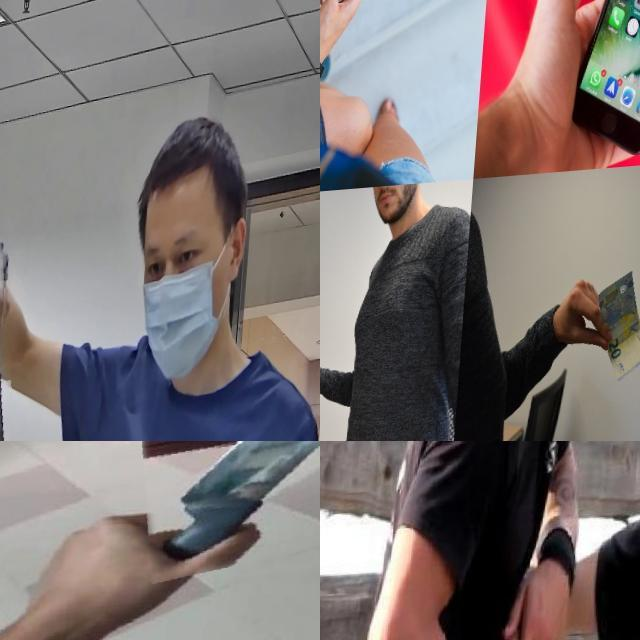-: (133, 441, 320, 579)
gun-knife-thesis - v11 Yolov5 augmented: (0, 242, 43, 441)
